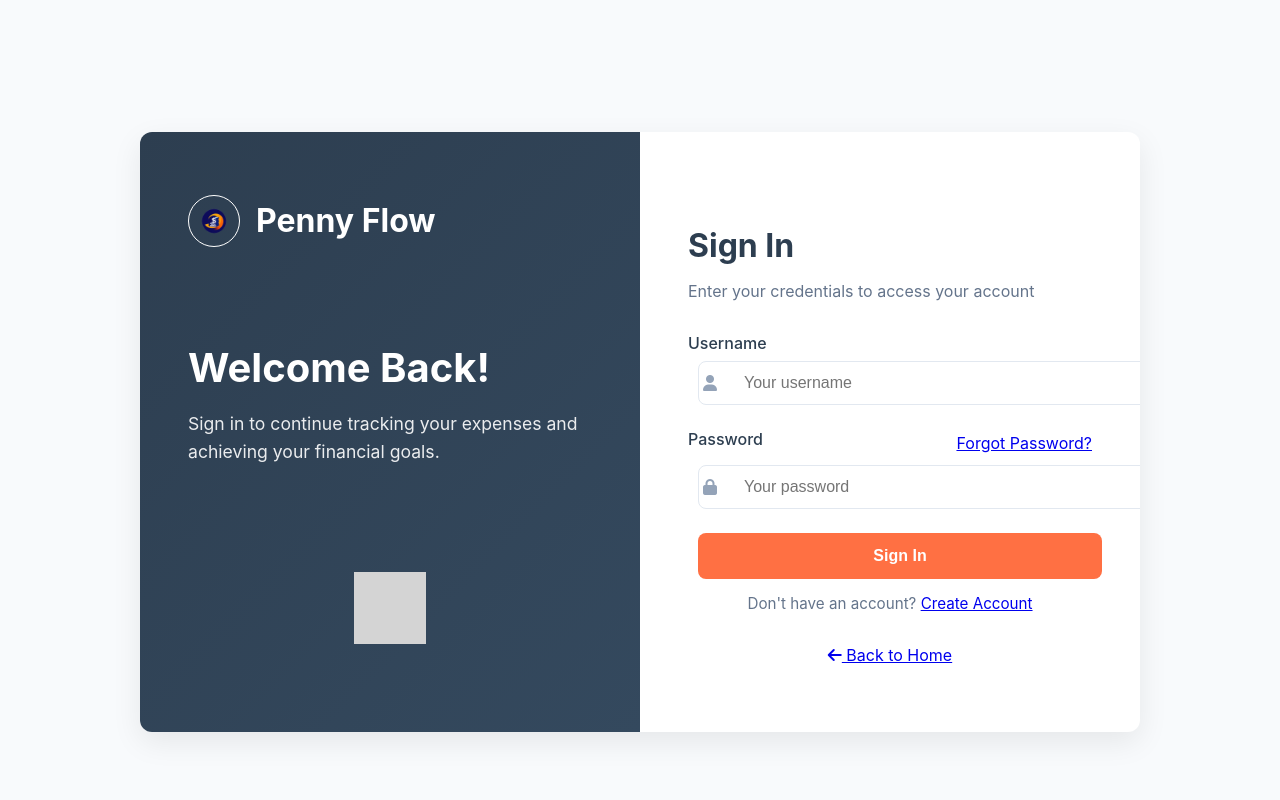
Test case: Login Page › should successfully login and redirect to /expenses
Fill form
Type "testuser" into the field named "username" at (931, 383), box [698, 361, 1164, 405]
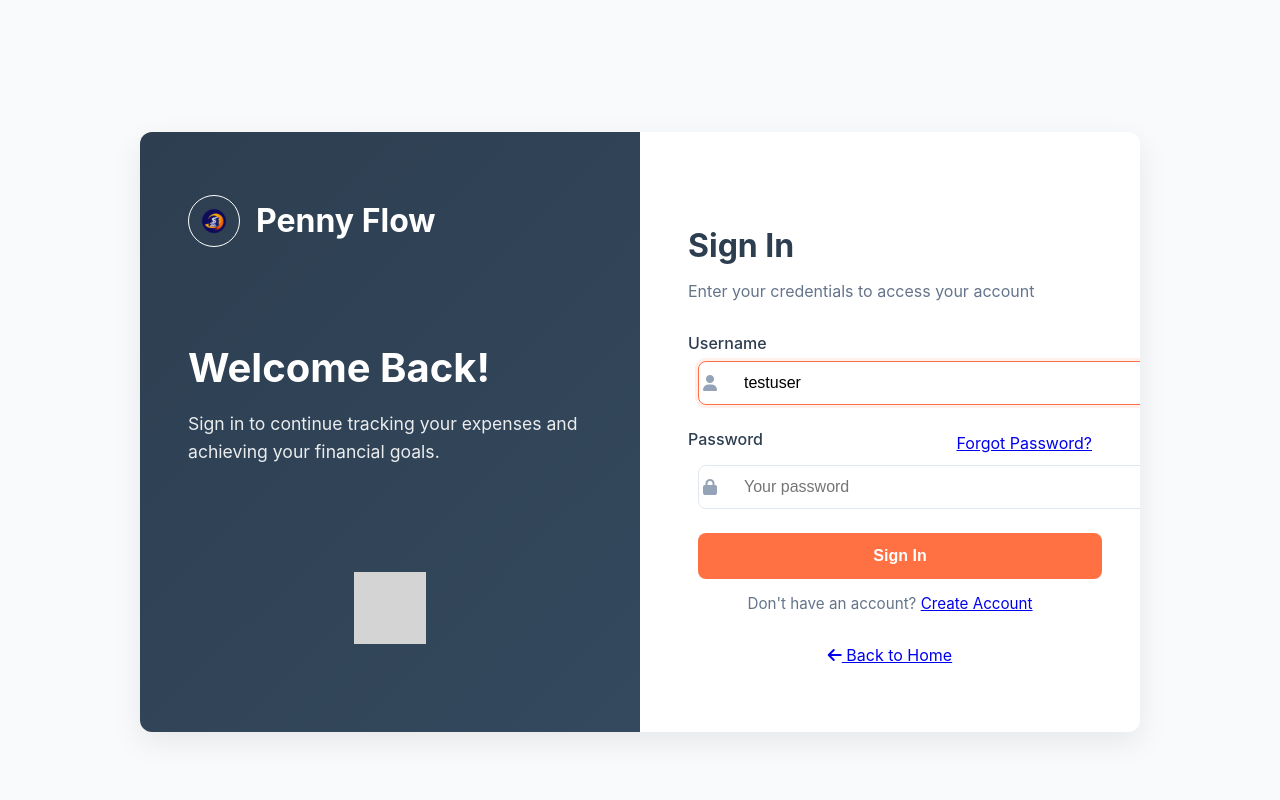
Type "password123" into the password field named "password" at (931, 487), box [698, 465, 1164, 509]
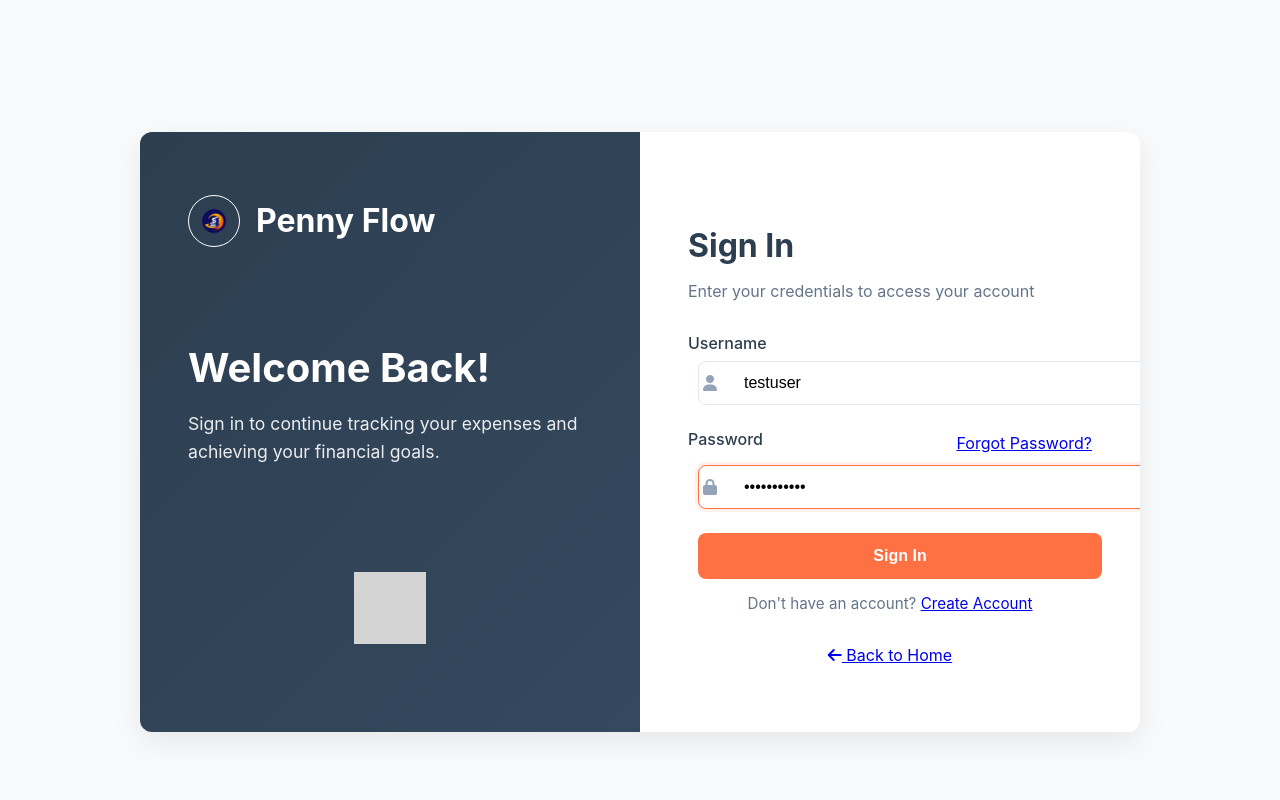
Submit form
Click the submit button at (900, 556), box [698, 533, 1102, 579]
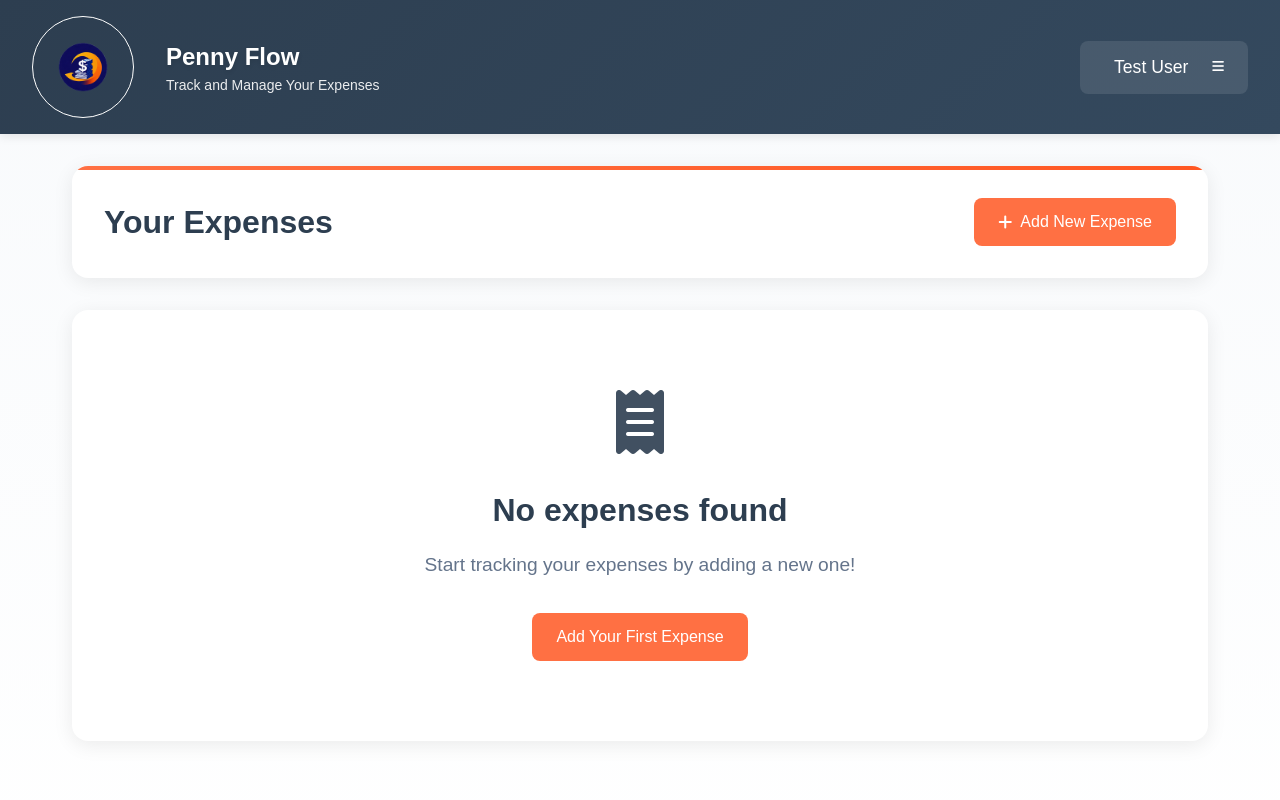
Now the heading with class "section-title" reads "Your Expenses", box [104, 204, 333, 240]
